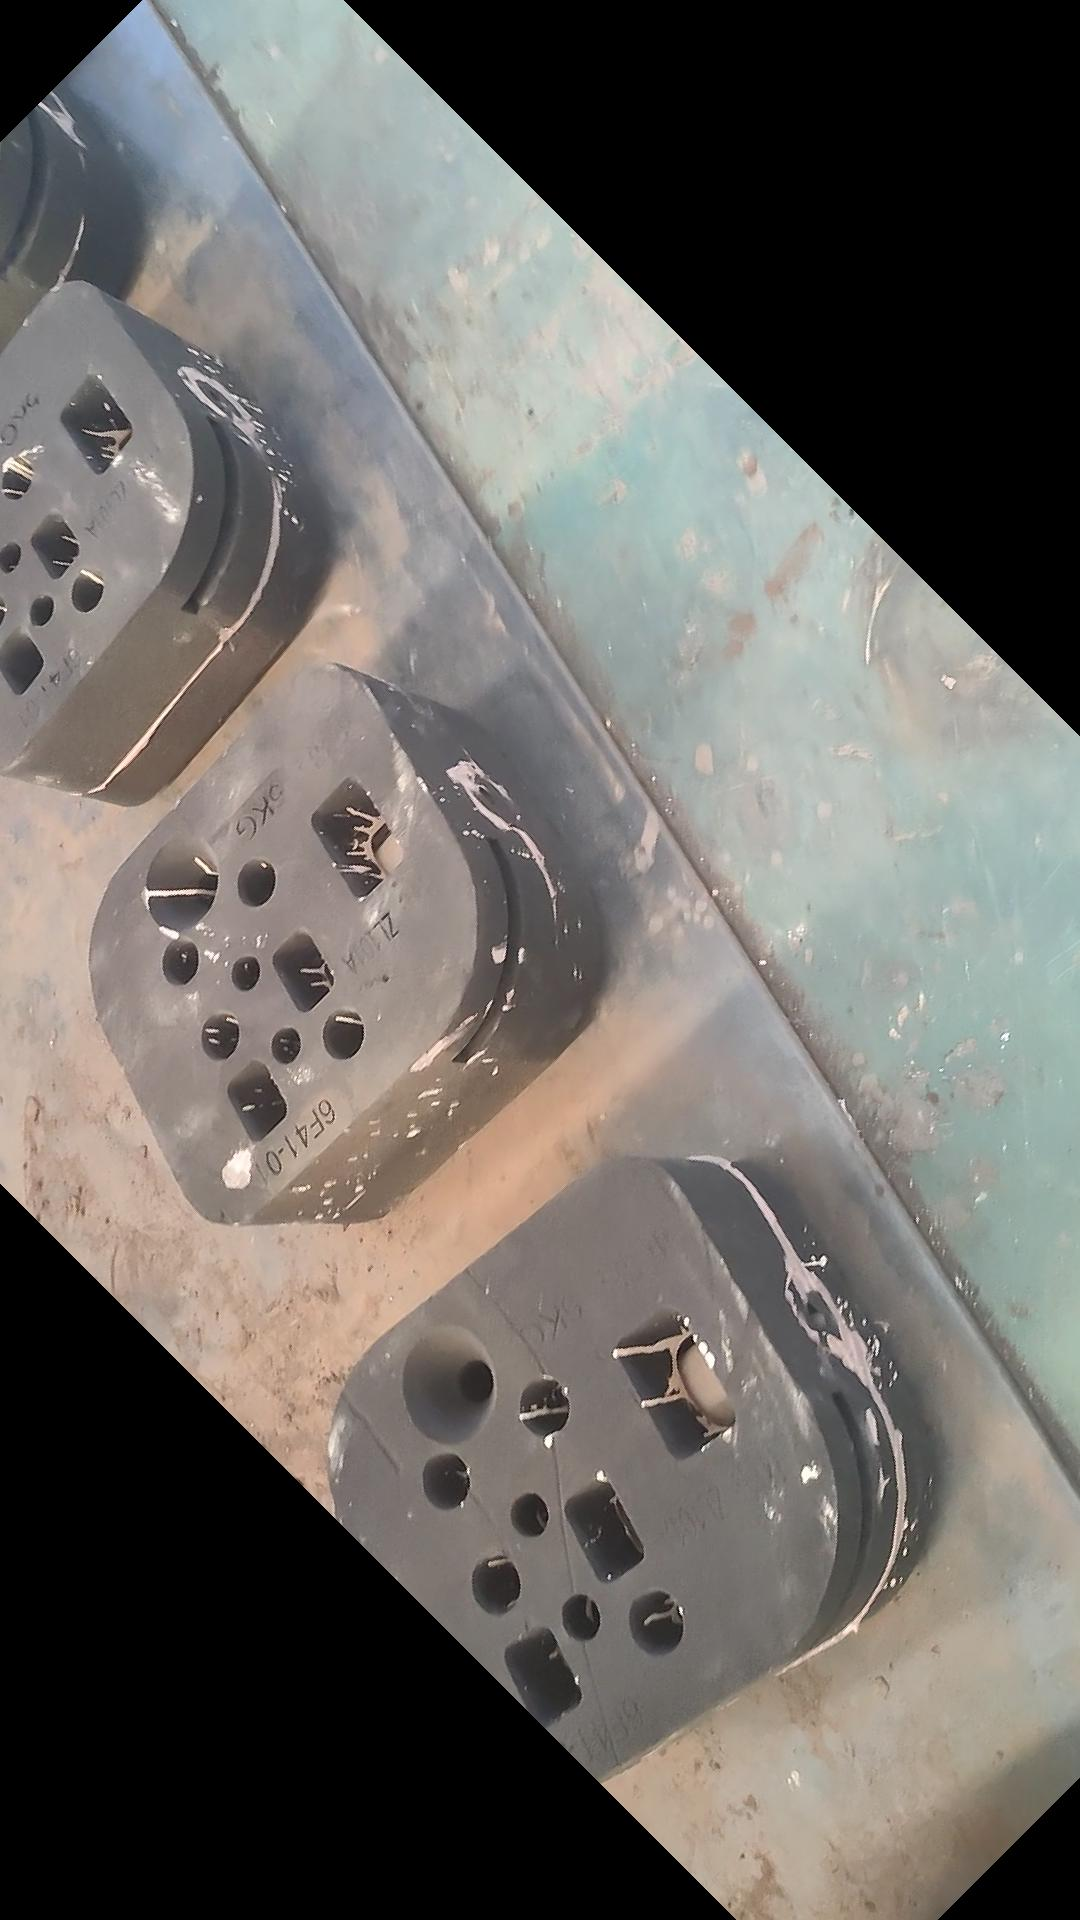pouring hole: (404, 1323, 497, 1445), (145, 836, 222, 930)
